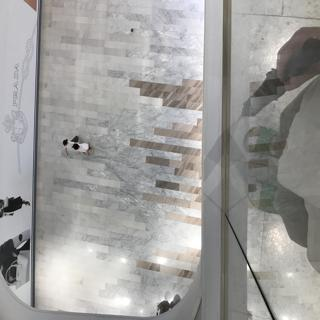person: (72, 139, 95, 157), (58, 136, 75, 158)
